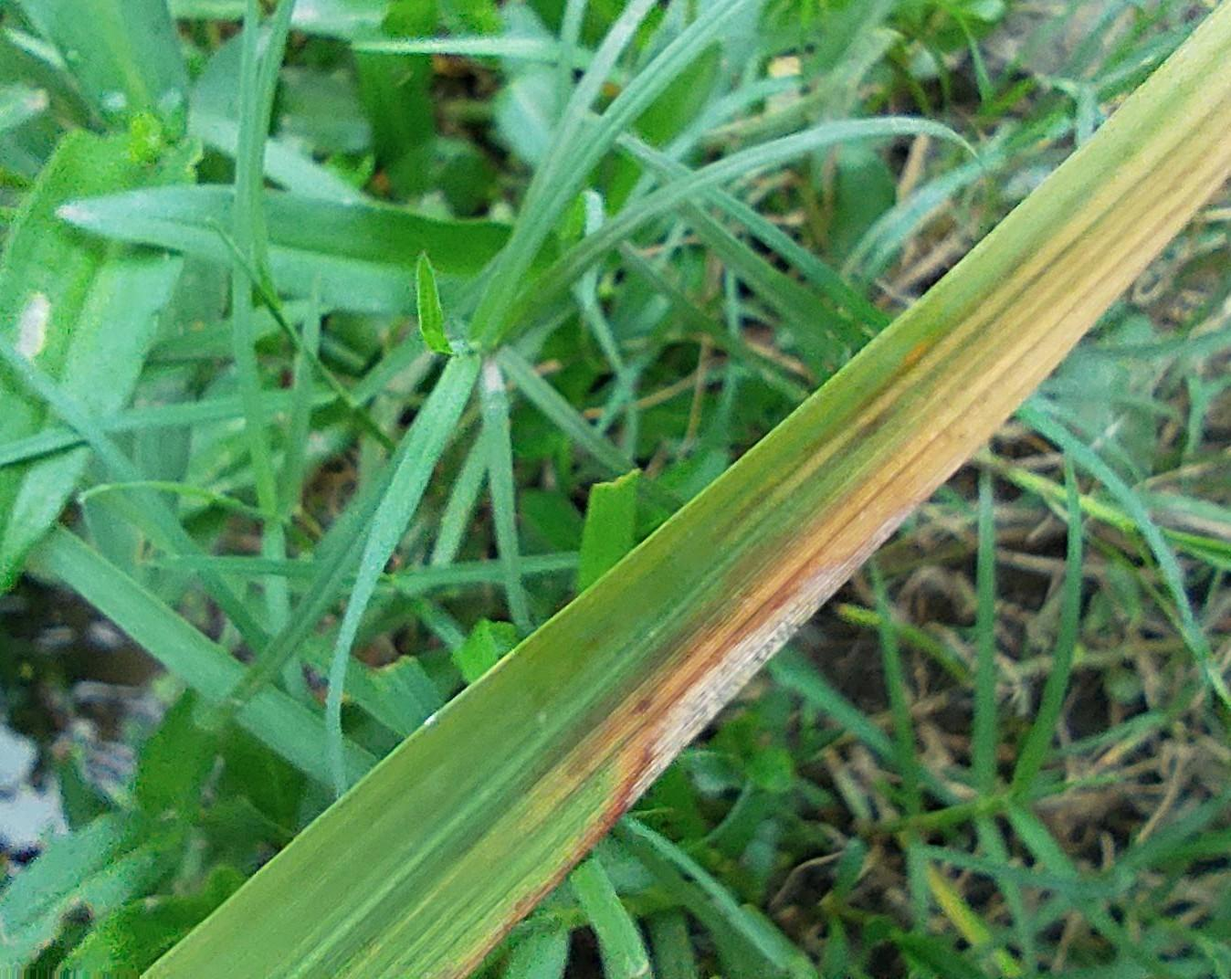LEAF: (149, 6, 1230, 978)
LEAF BLAST: (625, 502, 921, 806)
